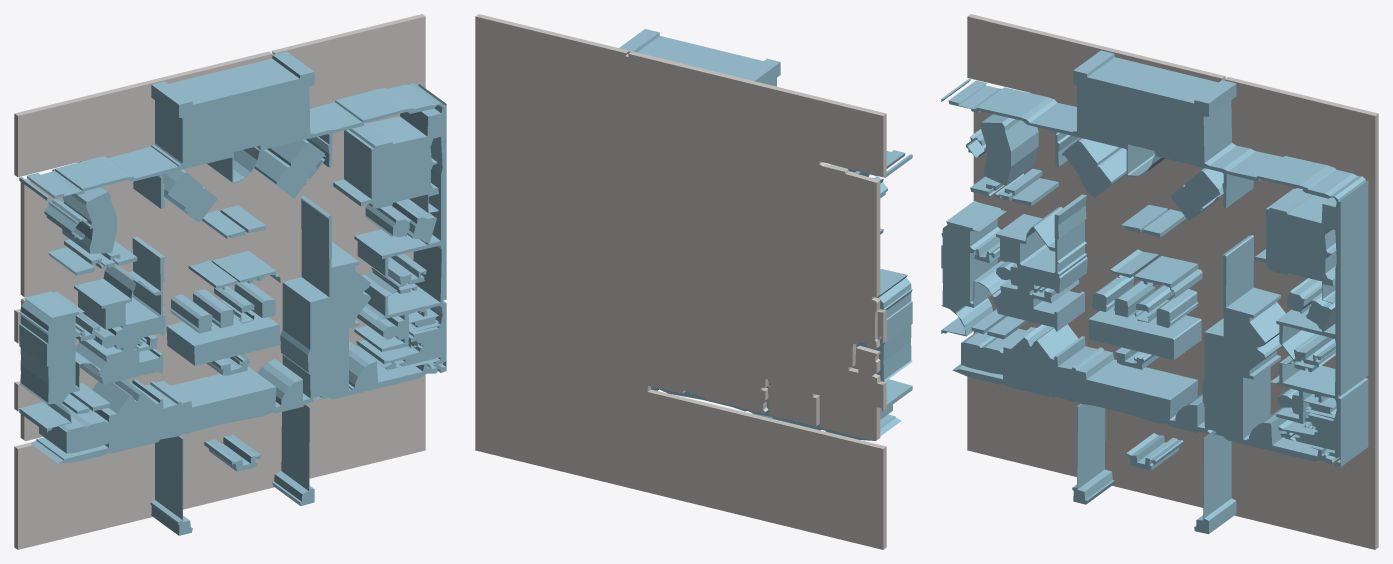
The picture shows the model from 3 angles, left to right: view 1: azimuth 30°, elevation 25°; view 2: azimuth 150°, elevation 25°; view 3: azimuth 330°, elevation 25°; orthographic projection.
Visible parts, largest first — view 1: world; view 2: world; view 3: world.
Boxes of the visible parts, x1=… form: world: x1=14, y1=14, x2=446, y2=549; world: x1=475, y1=14, x2=912, y2=549; world: x1=941, y1=14, x2=1378, y2=549.
Size of the model in its own units: 10.23 by 10.4 by 1.35.
